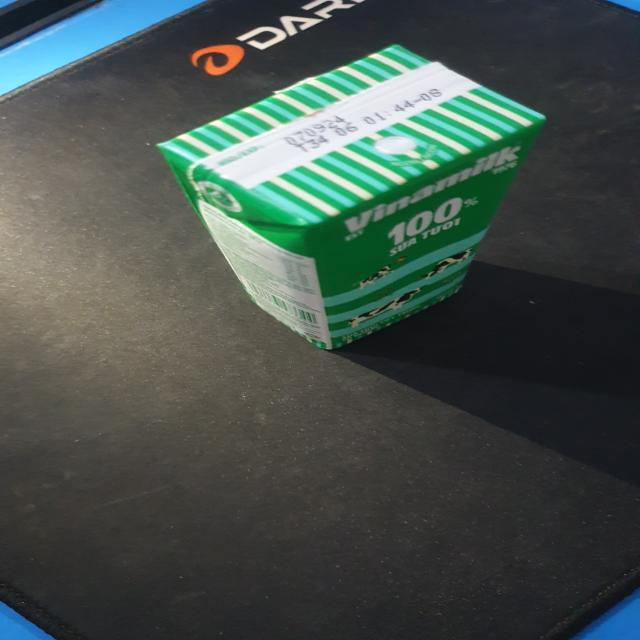Vina: (152, 42, 555, 356)
